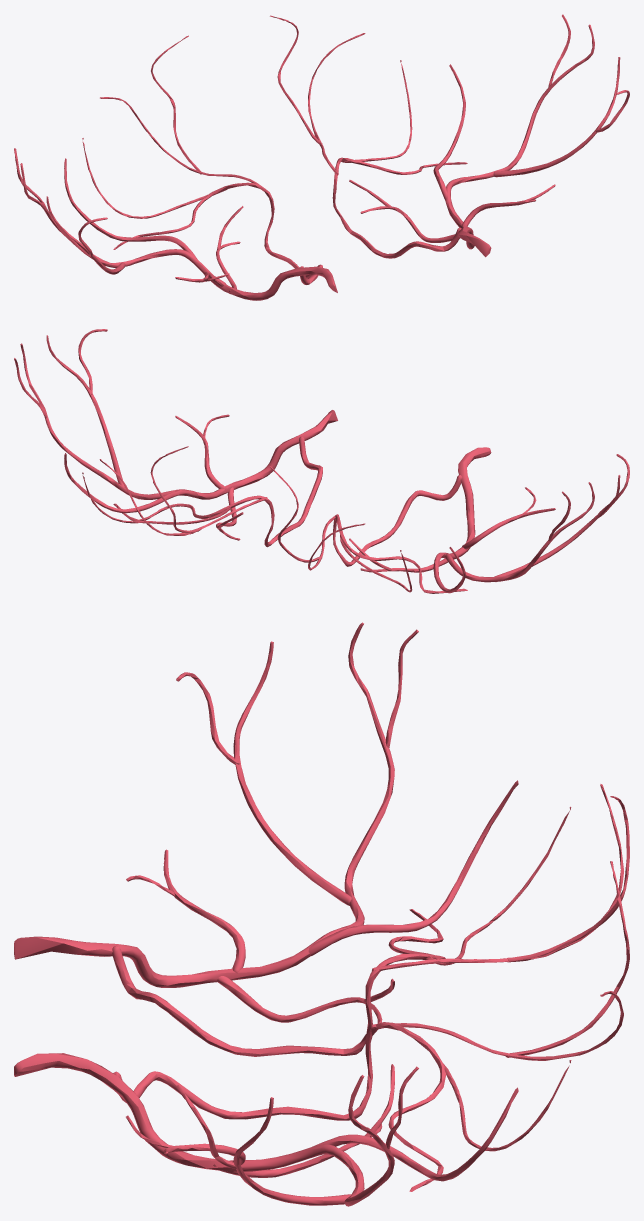
Rendered from pica.glb.
The picture shows the model from 3 angles, top to bottom: view 1: azimuth 30°, elevation 25°; view 2: azimuth 150°, elevation 25°; view 3: azimuth 270°, elevation 25°; orthographic projection. The views are drawn at different scales.
Parts seen in each view (by area): view 1: grp1; view 2: grp1; view 3: grp1.
Boxes of the visible parts, <box> form: grp1: <box>14,14,629,300</box>; grp1: <box>14,329,629,593</box>; grp1: <box>14,622,629,1206</box>.
Bounding box in the file's own units: 0.1072 × 0.0295 × 0.061.
